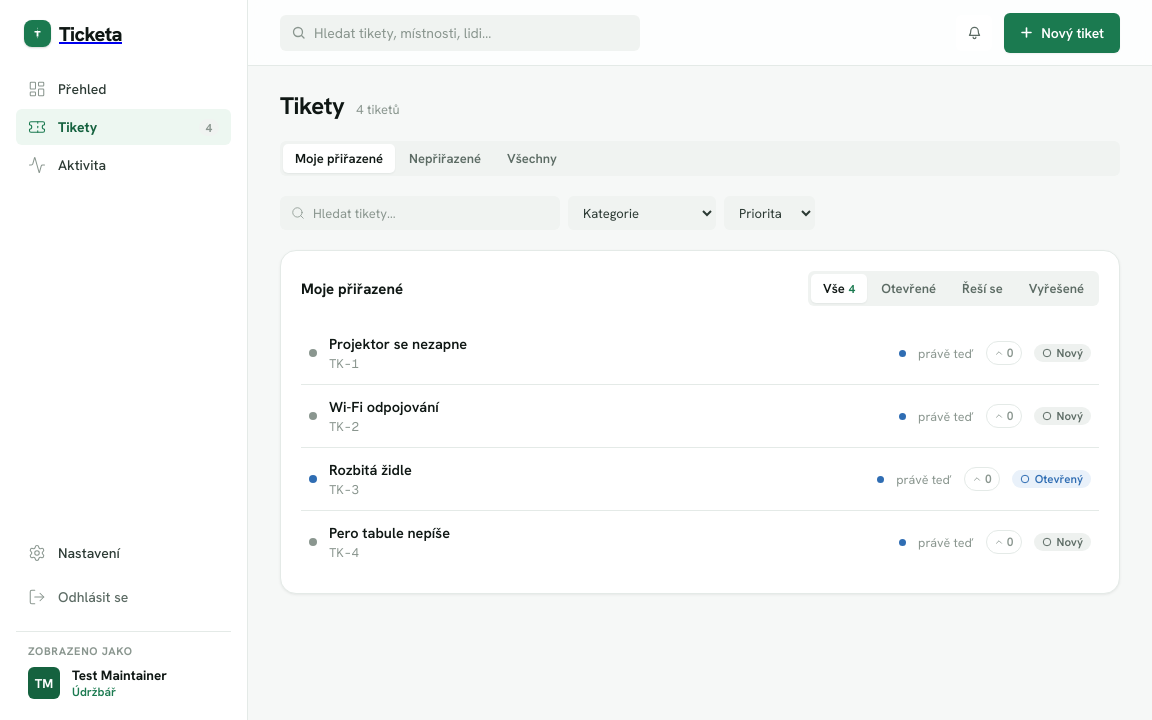
Test case: TicketsPage › switches scope tab on click
Click the tab "Nepřiřazené": {"x": 445, "y": 158} [397,144,493,173]
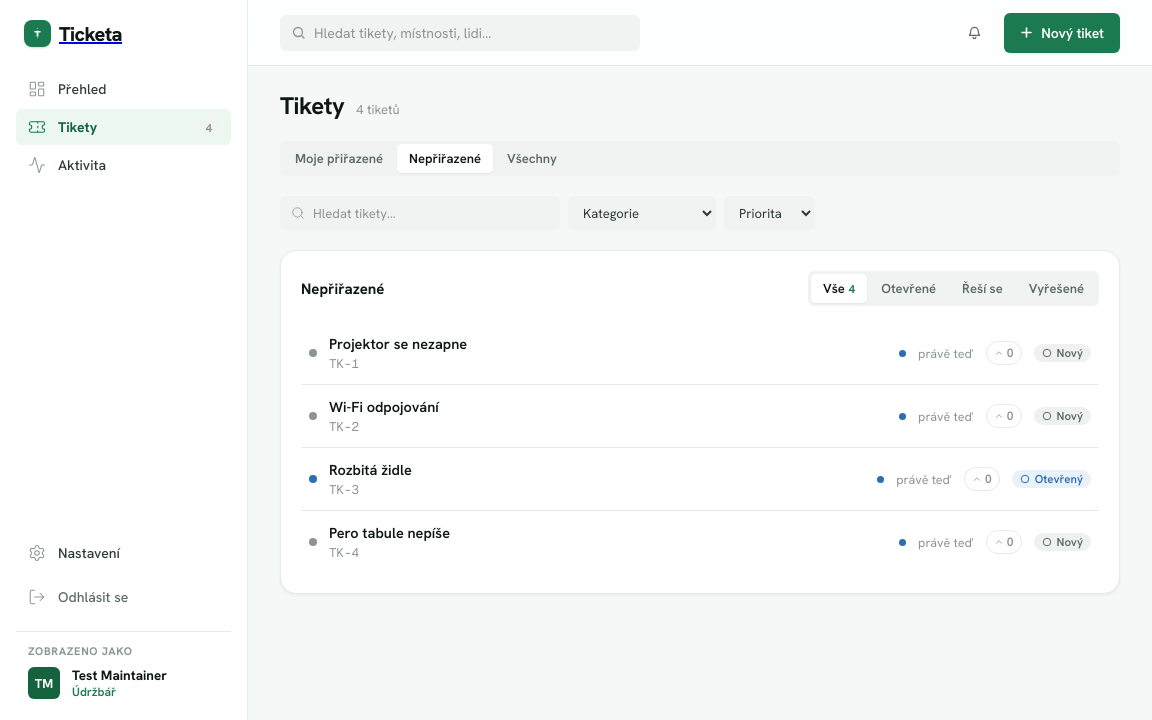
Expected: the heading "Nepřiřazené" is shown, [301,278,384,298]
